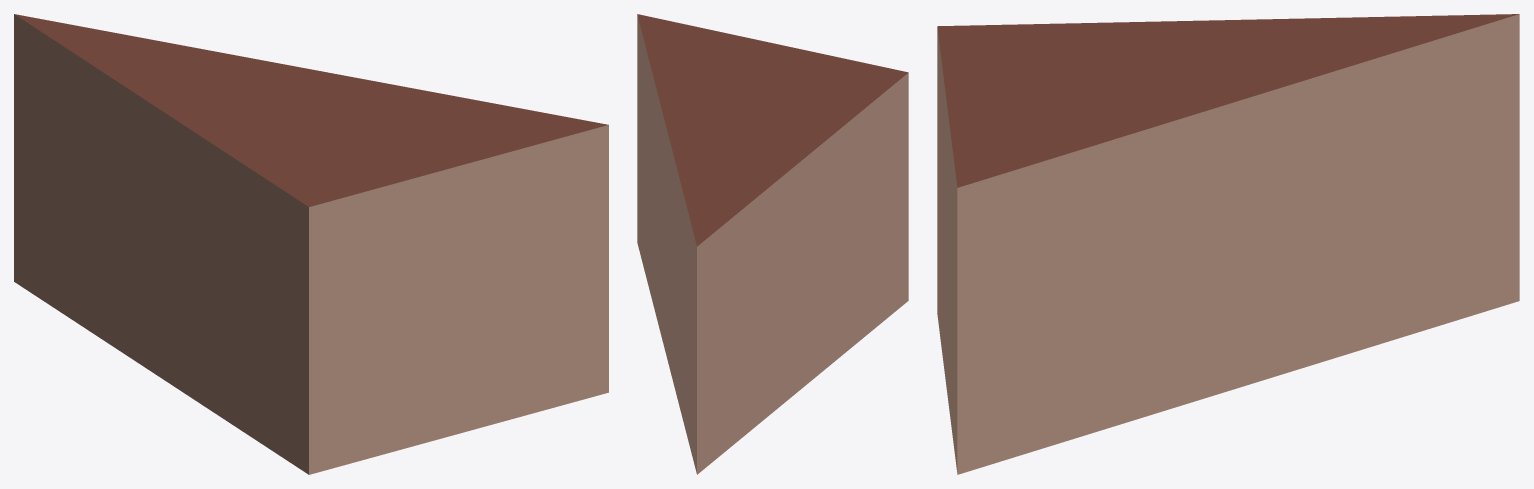
The model's file is SM_Fondale_Citta_SE_01_LOD2.fbx.
3 renders of one model, left to right at view 1: azimuth 30°, elevation 25°; view 2: azimuth 150°, elevation 25°; view 3: azimuth 270°, elevation 25°, orthographic. The views are drawn at different scales.
Visible parts, largest first — view 1: SM_Fondale_Citta_SE_01_LOD2; view 2: SM_Fondale_Citta_SE_01_LOD2; view 3: SM_Fondale_Citta_SE_01_LOD2.
Boxes of the visible parts, x1,y1,x2,y2 form: SM_Fondale_Citta_SE_01_LOD2: (14, 14, 608, 474); SM_Fondale_Citta_SE_01_LOD2: (637, 14, 908, 474); SM_Fondale_Citta_SE_01_LOD2: (937, 14, 1519, 474).
Size of the model in its own units: 2296 by 3249 by 1766.
